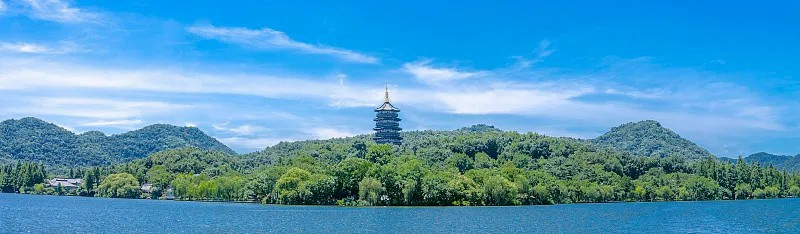Leifeng: (372, 82, 403, 146)
